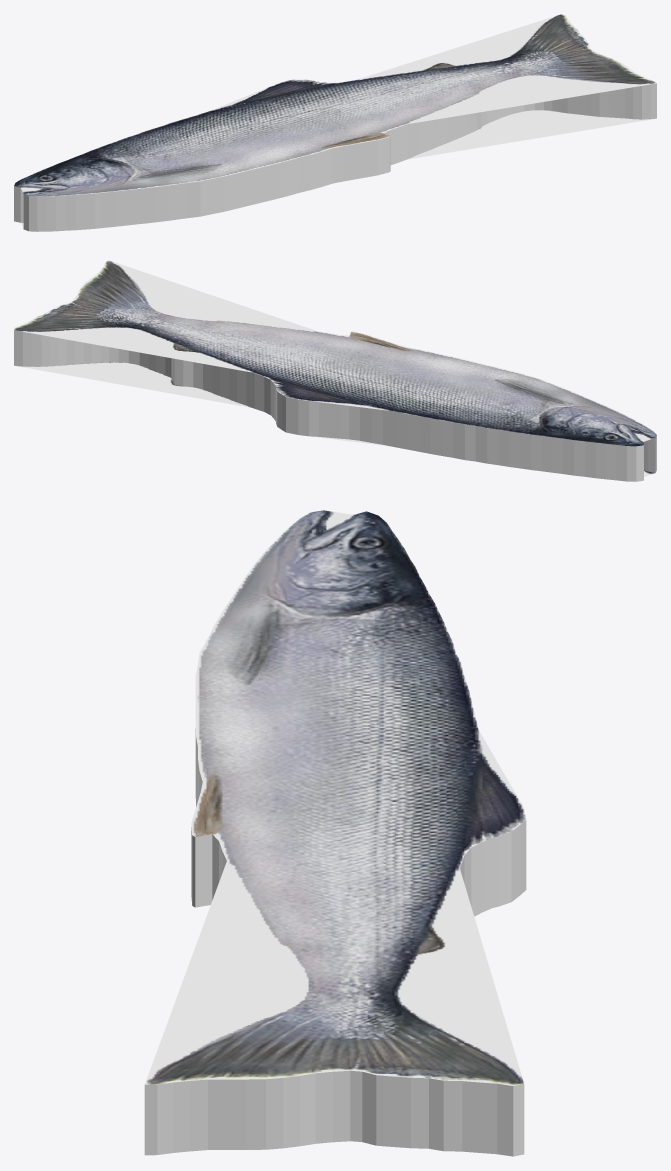
File: salmon2.fbx
3 renders of one model, top to bottom at view 1: azimuth 30°, elevation 25°; view 2: azimuth 150°, elevation 25°; view 3: azimuth 270°, elevation 25°, orthographic. The views are drawn at different scales.
Visible parts, largest first — view 1: Plane.002; view 2: Plane.002; view 3: Plane.002.
Boxes of the visible parts, x1,y1,x2,y2 form: Plane.002: [14, 14, 656, 231]; Plane.002: [14, 260, 656, 481]; Plane.002: [144, 510, 526, 1156].
Bounding box in the file's own units: 735 × 42 × 206.
